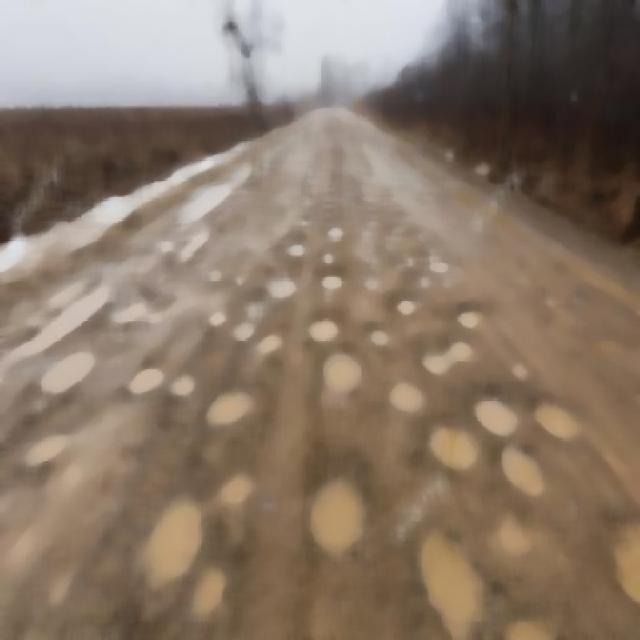Pothole: (144, 478, 224, 616), (405, 516, 490, 639), (300, 479, 386, 578), (35, 342, 103, 411), (604, 513, 639, 632), (533, 388, 581, 463), (468, 386, 506, 454)
